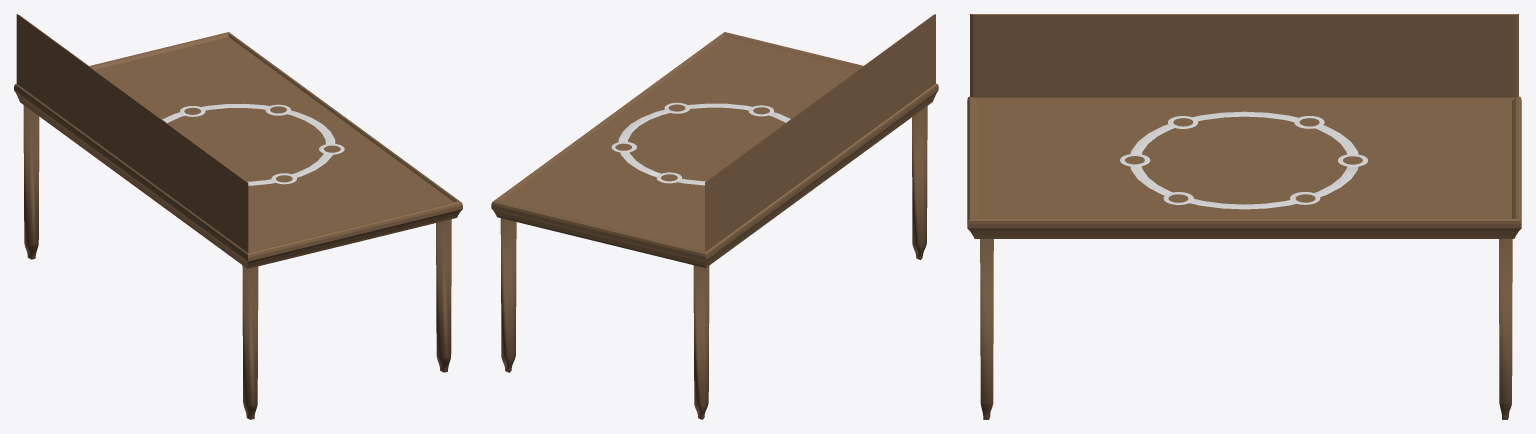
The model's file is UpgradeTable_3fbx.fbx.
The picture shows the model from 3 angles, left to right: view 1: azimuth 30°, elevation 25°; view 2: azimuth 150°, elevation 25°; view 3: azimuth 270°, elevation 25°; orthographic projection. The views are drawn at different scales.
Parts seen in each view (by area): view 1: CombineTable; view 2: CombineTable; view 3: CombineTable.
Boxes of the visible parts, box(x1,y1,x2,y2) form: CombineTable: box(14, 14, 462, 419); CombineTable: box(491, 14, 938, 419); CombineTable: box(967, 14, 1521, 419).
Size of the model in its own units: 2 by 2.16 by 3.77.
